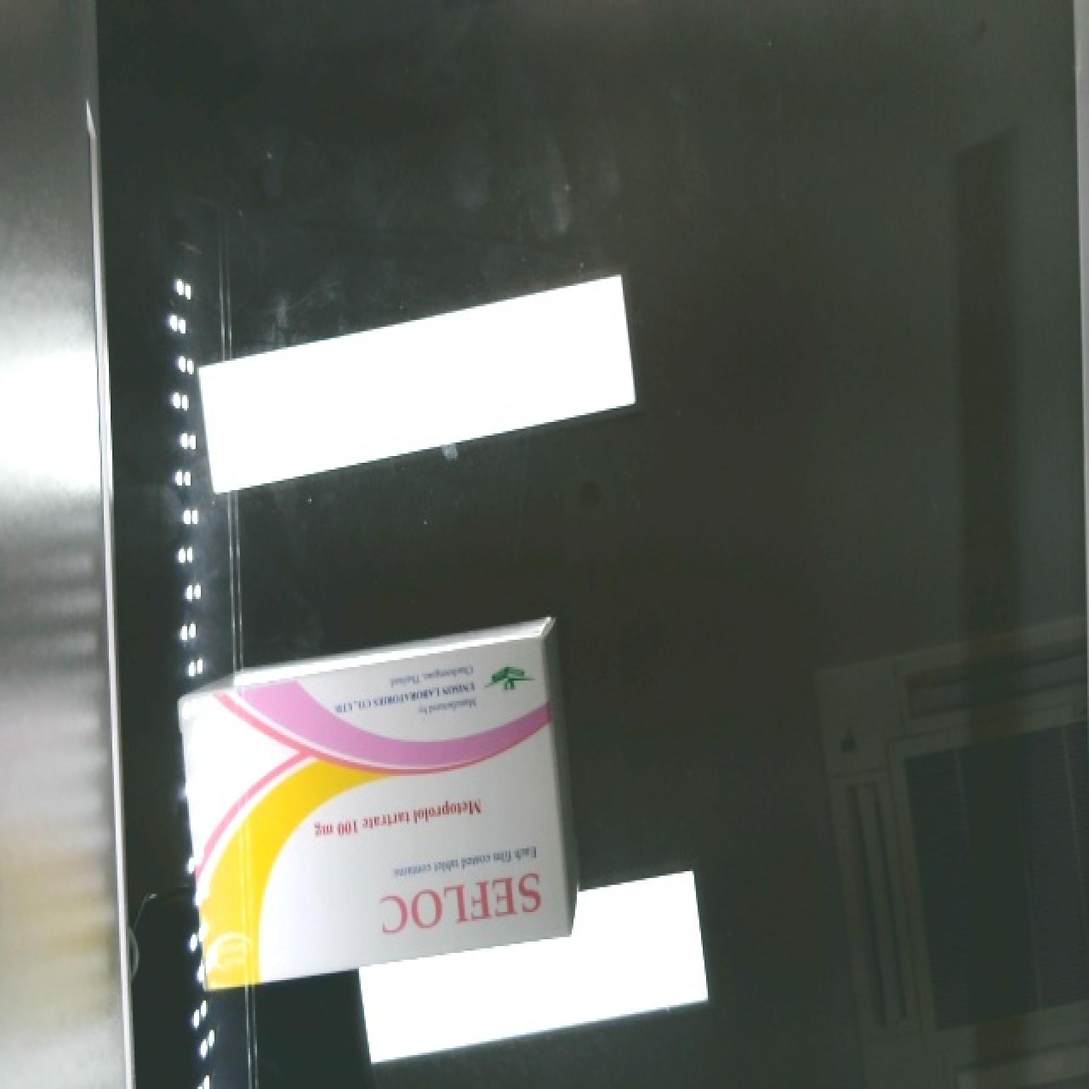medicine_label_obb: (360, 848, 568, 963)
